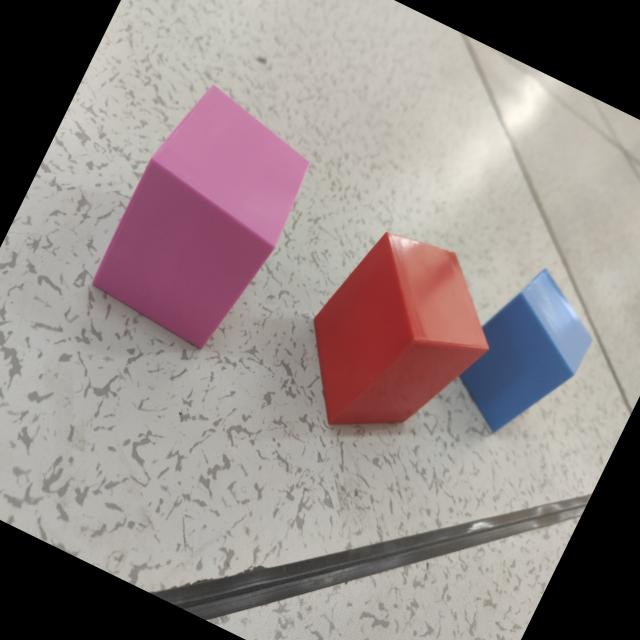blue: (457, 270, 592, 435)
pink: (90, 87, 309, 349)
red: (311, 233, 487, 428)
